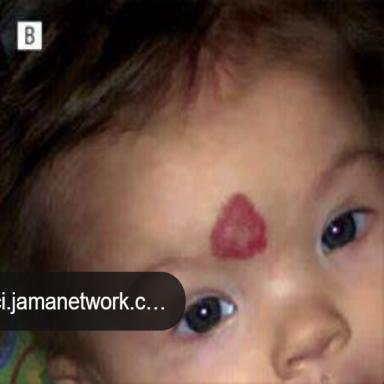Hemangiome: (211, 194, 266, 259)
